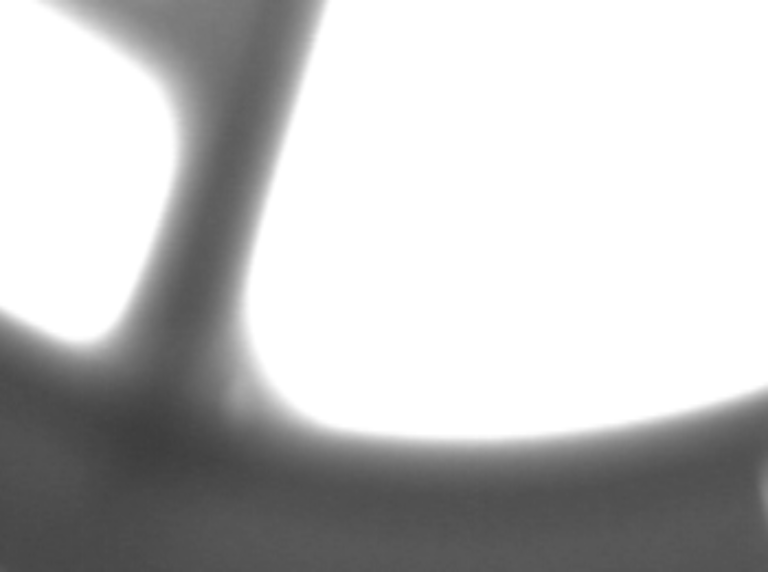defect: (222, 383, 257, 439)
